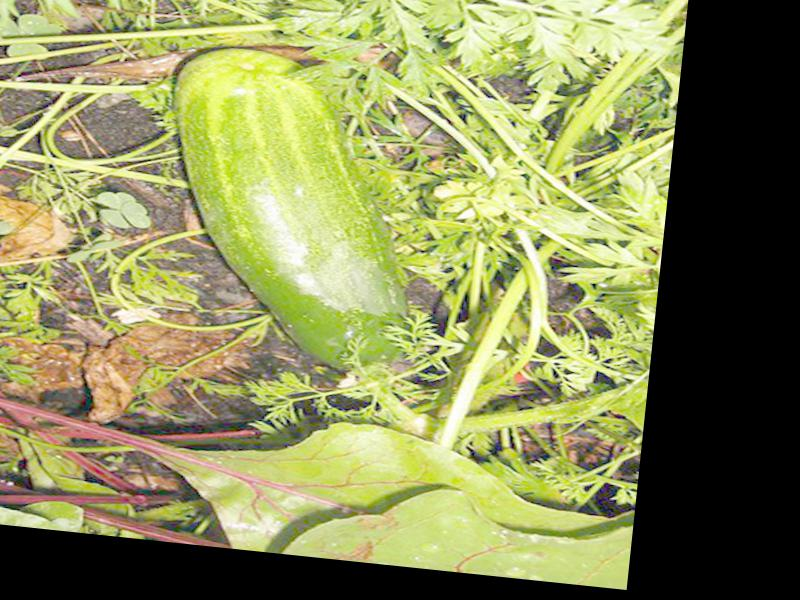Cucumber: (146, 46, 445, 377)
